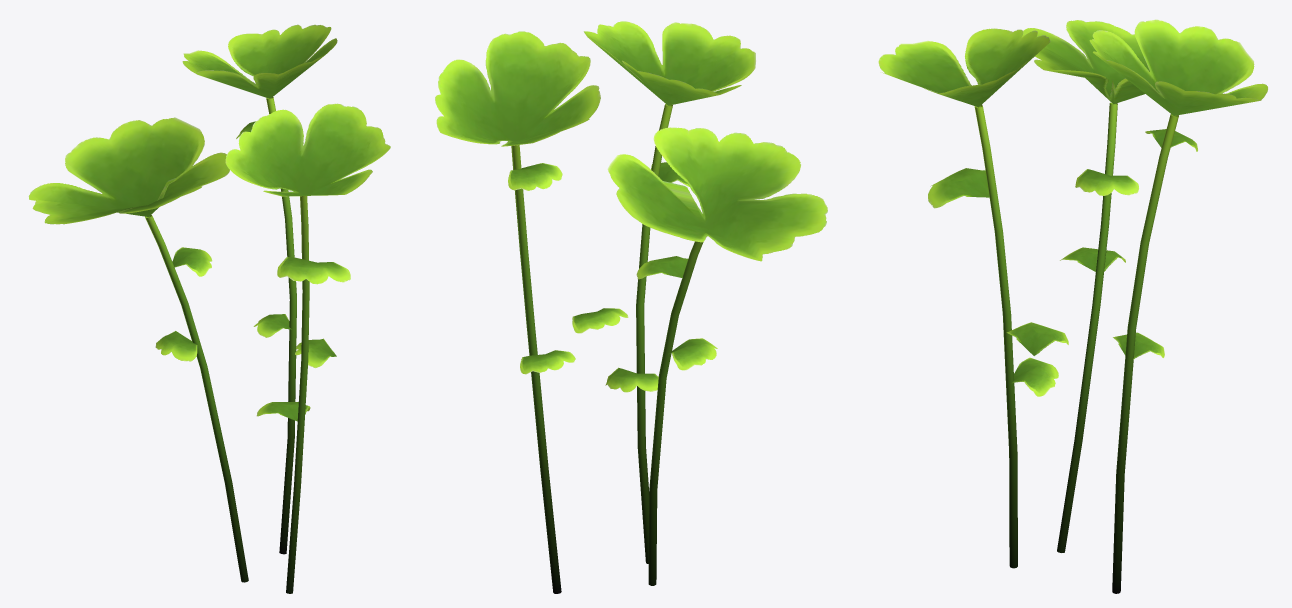
File: Clover_1.gltf
3 renders of one model, left to right at view 1: azimuth 30°, elevation 25°; view 2: azimuth 150°, elevation 25°; view 3: azimuth 270°, elevation 25°, orthographic. The views are drawn at different scales.
Visible parts, largest first — view 1: Clover_1; view 2: Clover_1; view 3: Clover_1.
Boxes of the visible parts, x1,y1,x2,y2 form: Clover_1: (28,24,390,593); Clover_1: (435,21,827,593); Clover_1: (878,19,1267,593).
Size of the model in its own units: 0.7963 by 1.14 by 0.7639.
Materials: 1 (1 with a texture image).
